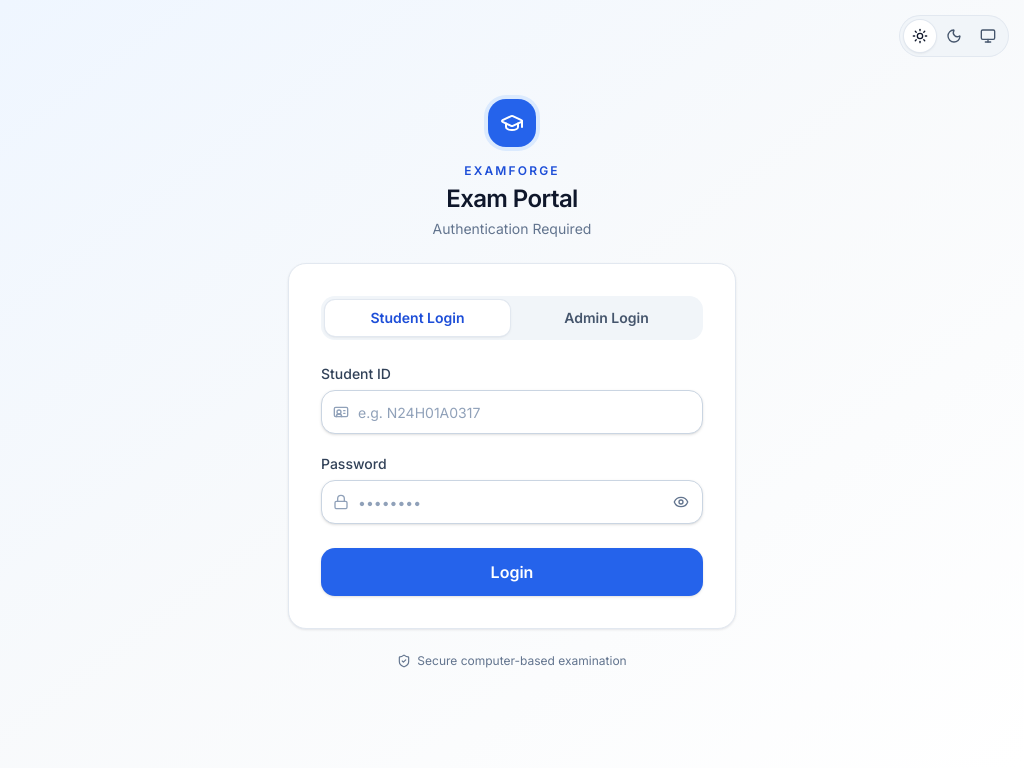
it: AuthPortal student login domains › reports invalid credentials once both domains reject the password
Type "abc123" into the field labelled "Student ID" at (512, 412), box [321,390,703,434]
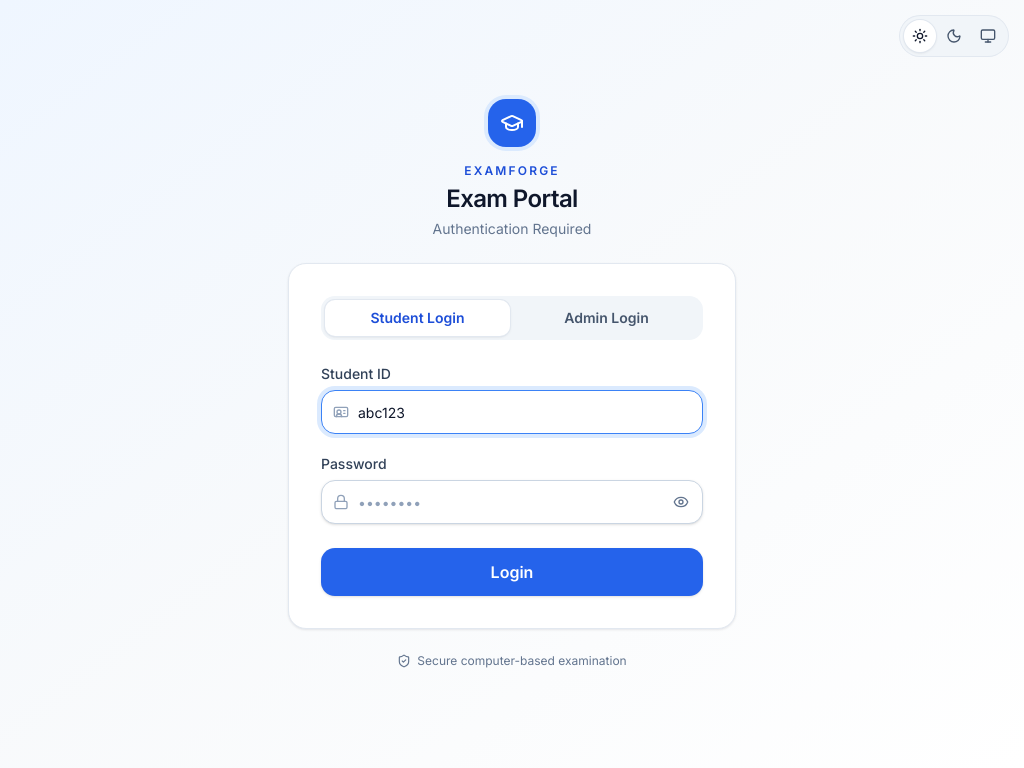
Type "secret-pass" into the password field labelled "Password" at (512, 502), box [321,480,703,524]
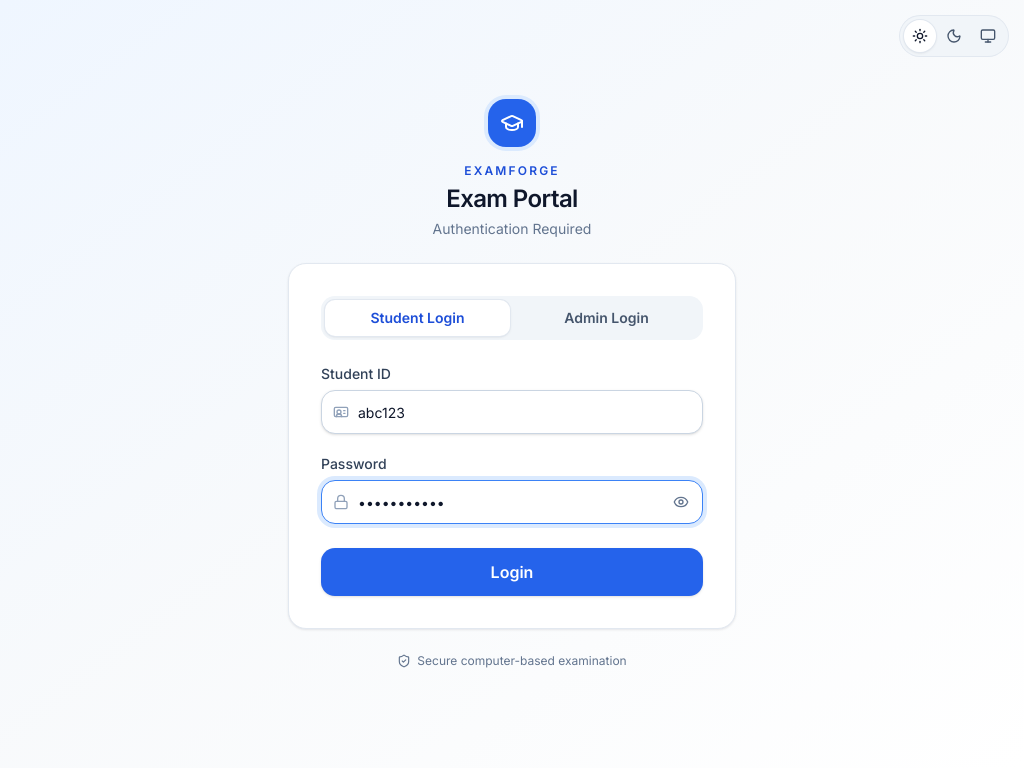
Click the button "Login" at (512, 572), box [321,548,703,596]
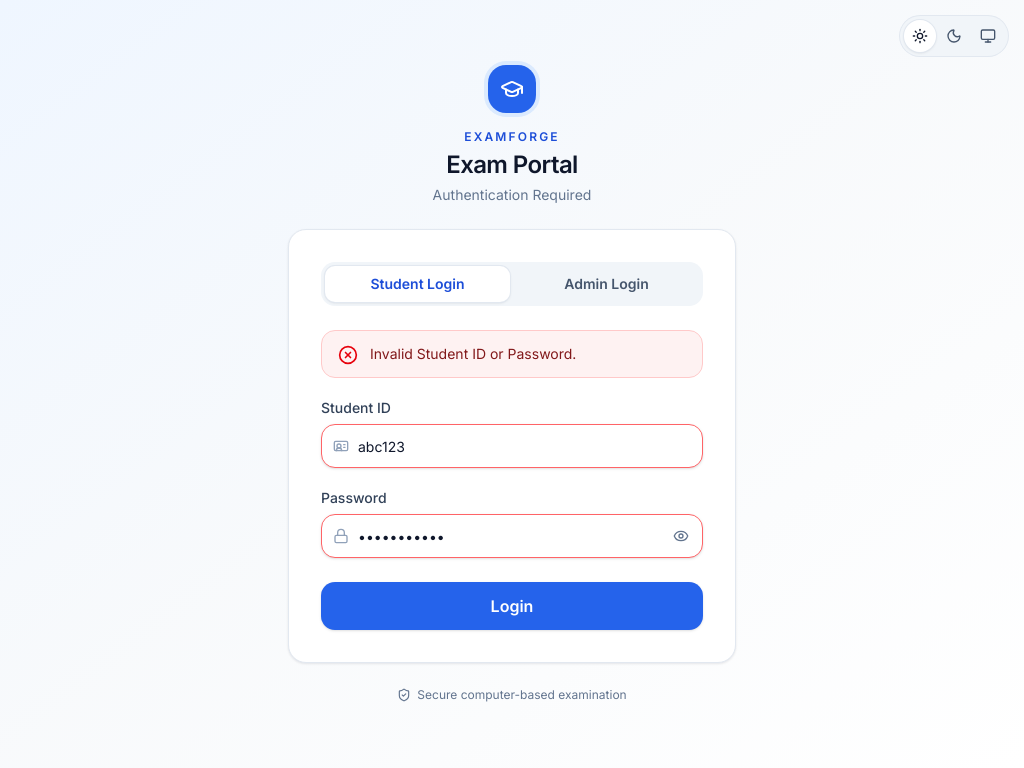
Now the text "Invalid Student ID or Password." is shown, box [370,345,576,362]
